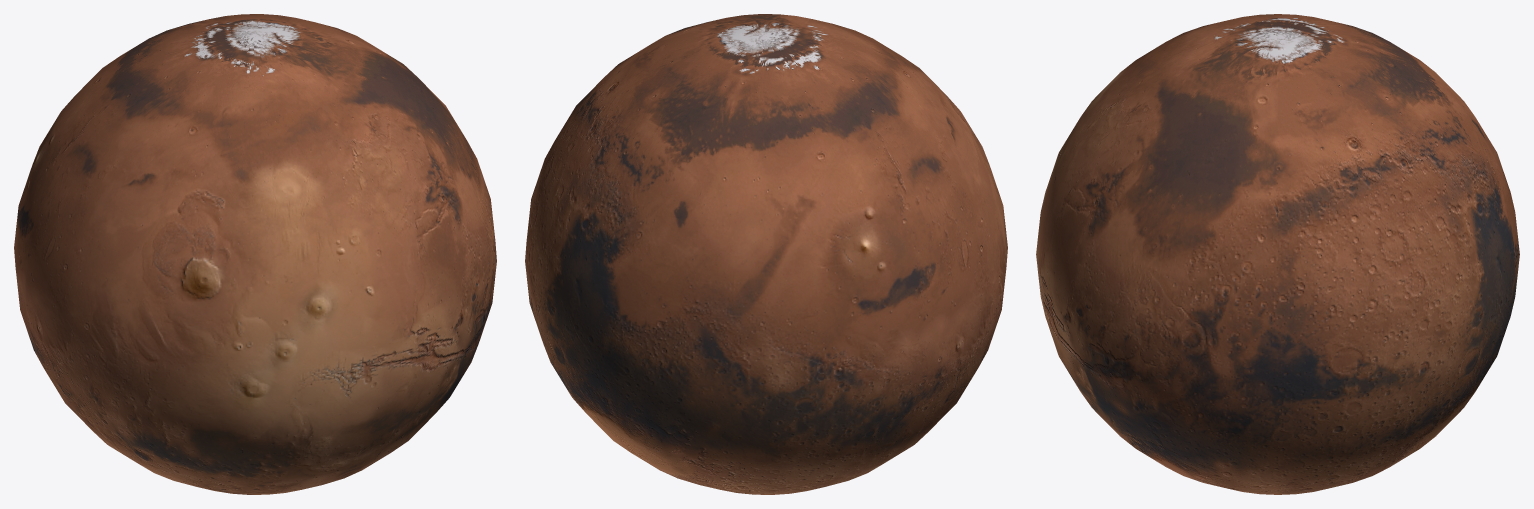
File: mars.glb
3 views of the same model, side by side, from view 1: azimuth 30°, elevation 25°; view 2: azimuth 150°, elevation 25°; view 3: azimuth 270°, elevation 25° (orthographic).
Visible parts, largest first — view 1: Sphere; view 2: Sphere; view 3: Sphere.
Part boxes in pixels (<box>): Sphere: <box>14,14,496,494</box>; Sphere: <box>525,14,1007,494</box>; Sphere: <box>1036,14,1519,494</box>.
Size of the model in its own units: 6.79 by 6.75 by 6.79.
1 material, 1 textured.
